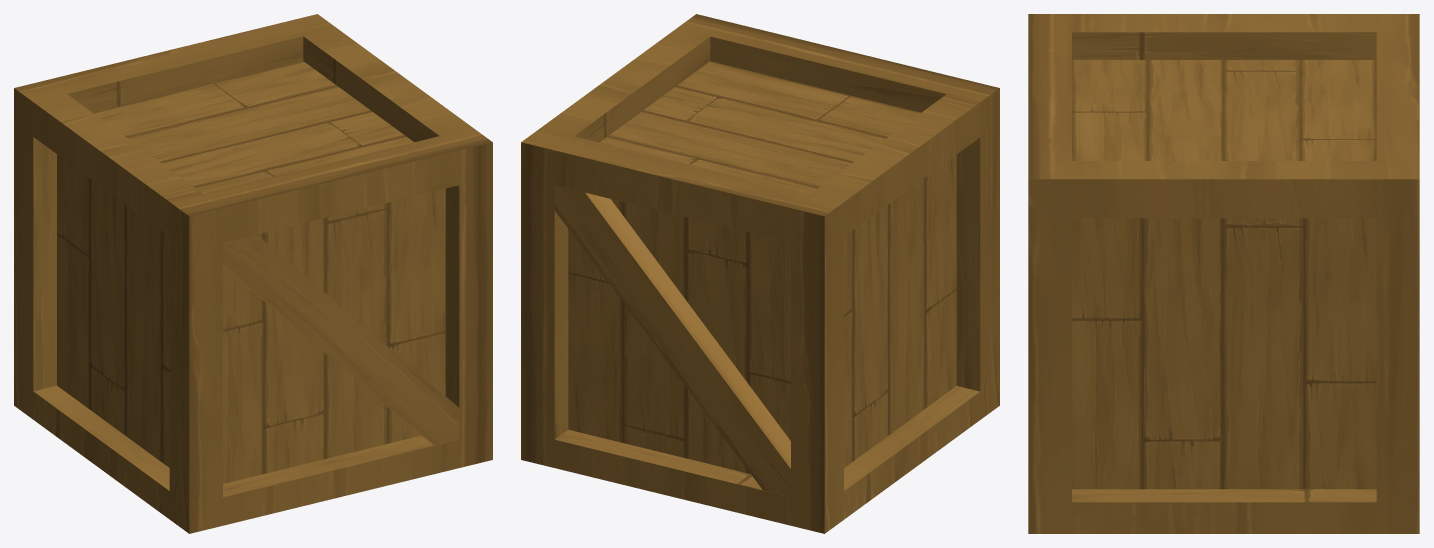
File: crate_model.fbx
3 renders of one model, left to right at view 1: azimuth 30°, elevation 25°; view 2: azimuth 150°, elevation 25°; view 3: azimuth 270°, elevation 25°, orthographic. The views are drawn at different scales.
Parts seen in each view (by area): view 1: pCube4; view 2: pCube4; view 3: pCube4.
Boxes of the visible parts, x1,y1,x2,y2 form: pCube4: [14, 14, 492, 533]; pCube4: [521, 14, 999, 533]; pCube4: [1028, 14, 1419, 533].
Size of the model in its own units: 12.86 by 12.86 by 12.86.
